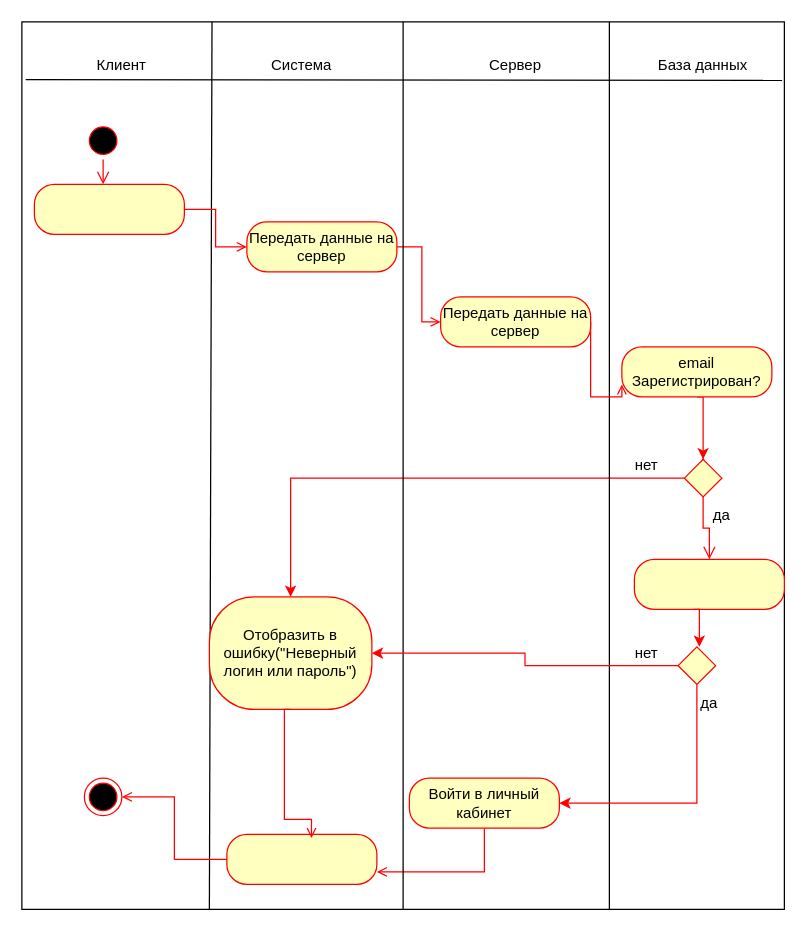
The diagram is 806 pixels wide and 933 high, and some of its shapes have lost their labels. Here are the shapes that lost their labels. From the top down, the box of each, then its label:
(33, 183, 184, 234): Заполнить форму входа
(633, 558, 784, 609): пароль совпадает?
(226, 833, 377, 884): Отобразить в пользовательском интерфейск
